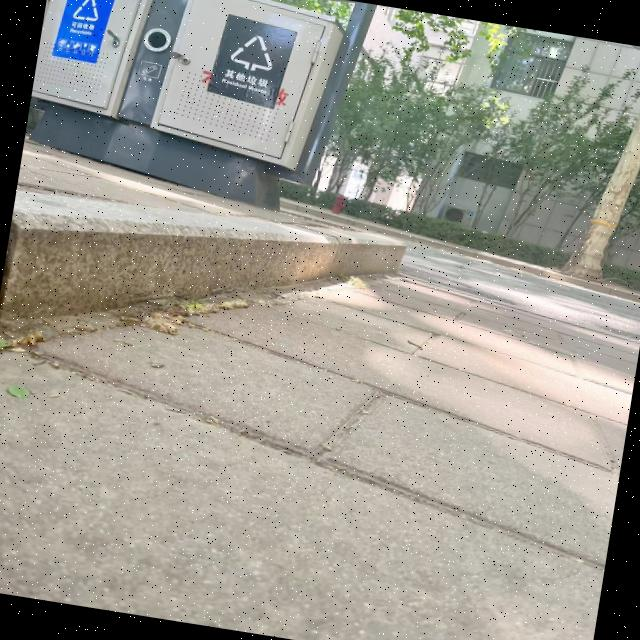curb: (1, 175, 413, 385)
